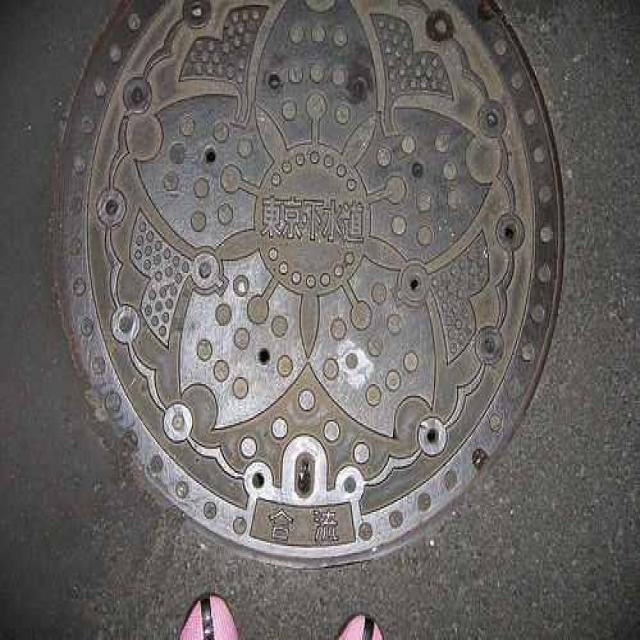manhole: (56, 0, 564, 567)
